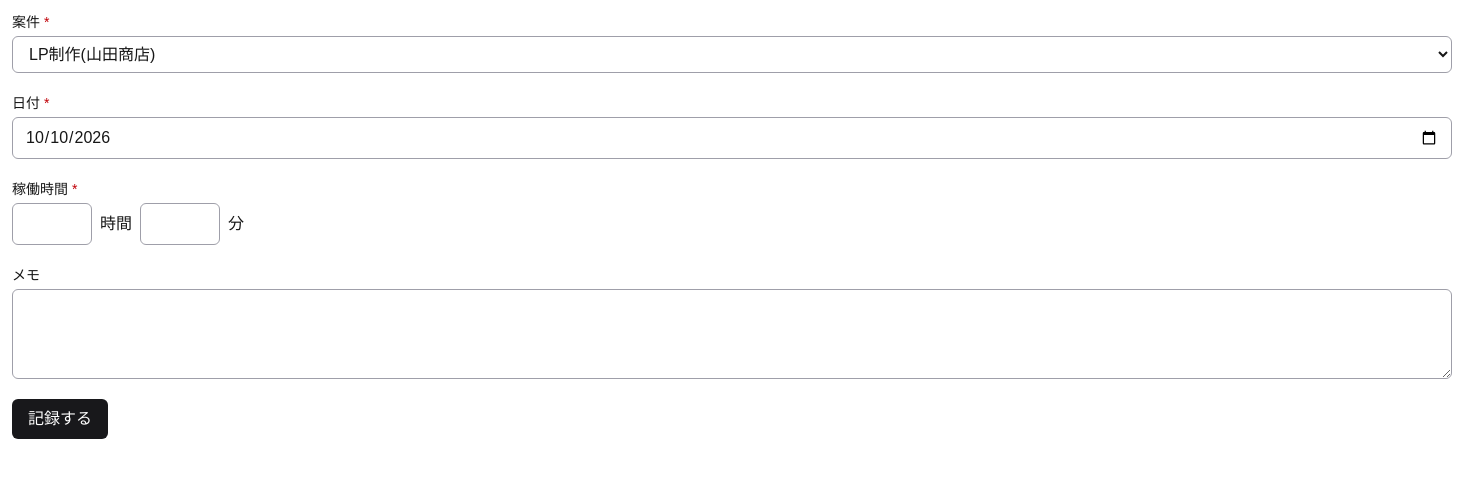
it: TimeEntryForm の画面の検証 › 時間と分が空なら送信せず、稼働時間のエラーを両方の欄に結び付ける
Click the button "記録する". click: (60, 419)
box: left=12, top=399, right=108, bottom=439
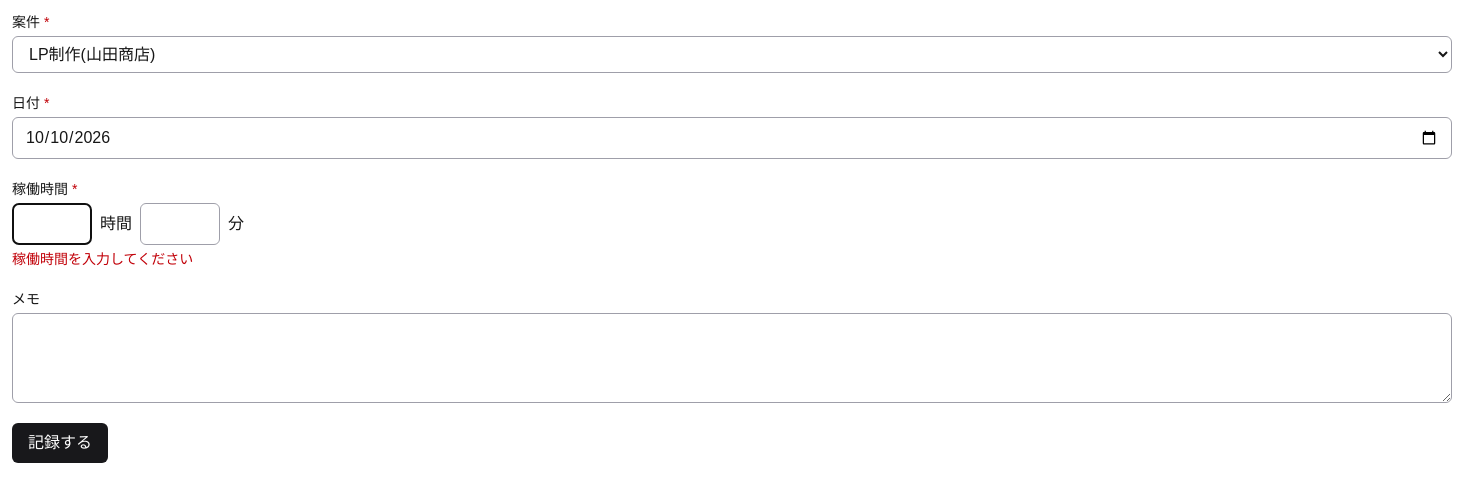
Expected: the text "稼働時間を入力してください" is shown, left=12, top=251, right=193, bottom=267
